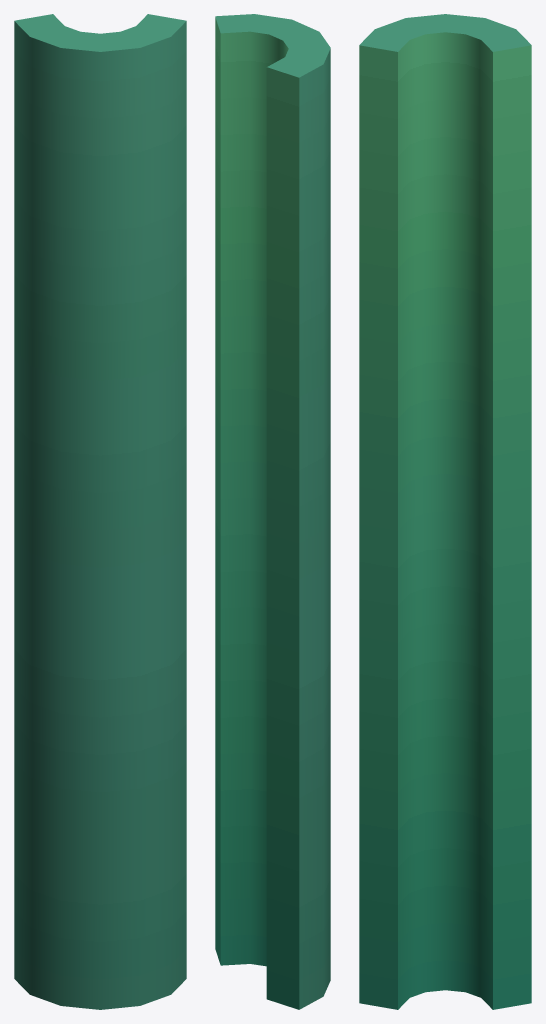
File: celery-stick.0449424b6c.glb
3 views of the same model, side by side, from view 1: azimuth 90°, elevation 25°; view 2: azimuth 210°, elevation 25°; view 3: azimuth 270°, elevation 25° (orthographic). The views are drawn at different scales.
Visible parts, largest first — view 1: celery-stick; view 2: celery-stick; view 3: celery-stick.
Part boxes in pixels (<box>): celery-stick: <box>14,14,186,1009</box>; celery-stick: <box>215,14,330,1009</box>; celery-stick: <box>359,14,531,1009</box>.
Size of the model in its own units: 0.0459 by 0.54 by 0.0882.
1 material, 1 textured.
